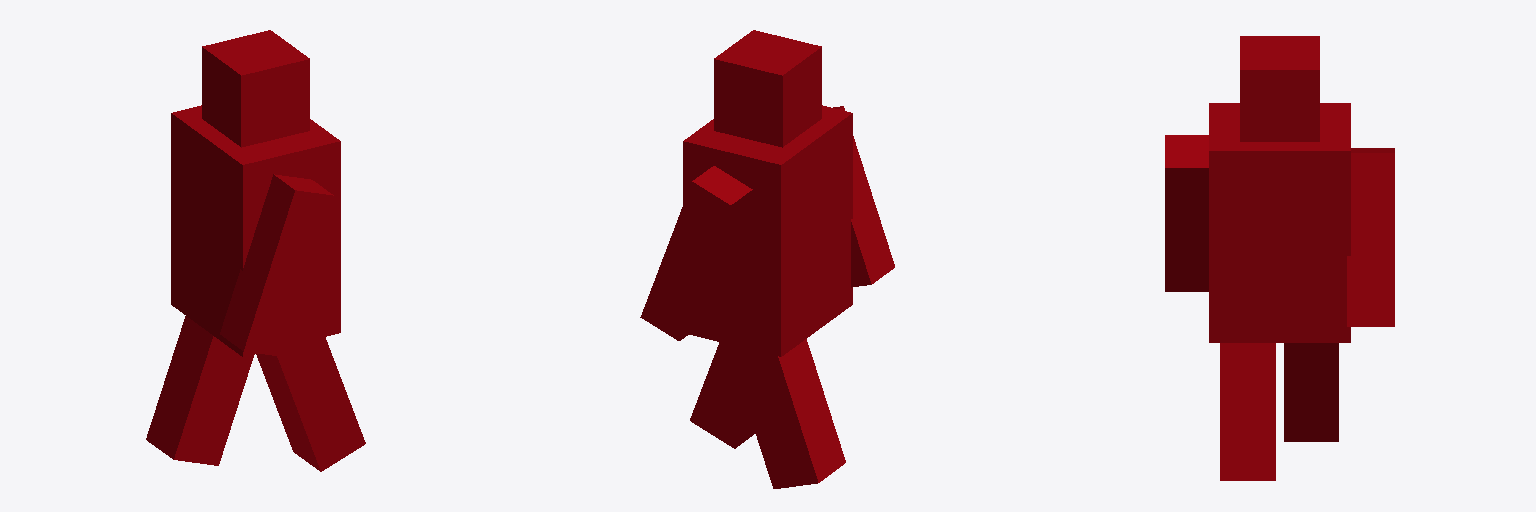
The model's file is enemy_red_walk2.obj.
3 views of the same model, side by side, from view 1: azimuth 30°, elevation 25°; view 2: azimuth 150°, elevation 25°; view 3: azimuth 270°, elevation 25° (orthographic).
Parts seen in each view (by area): view 1: body_Cube, arm_left_Cube.002, head_Cube.005, leg.001_Cube.001, leg_Cube.004; view 2: body_Cube, leg.001_Cube.001, head_Cube.005, arm_right_Cube.003, leg_Cube.004, arm_left_Cube.002; view 3: body_Cube, head_Cube.005, arm_right_Cube.003, leg_Cube.004, arm_left_Cube.002, leg.001_Cube.001.
Boxes of the visible parts, <box> form: body_Cube: <box>171,105,340,356</box>; arm_left_Cube.002: <box>220,174,333,356</box>; head_Cube.005: <box>202,30,309,147</box>; leg.001_Cube.001: <box>146,316,254,465</box>; leg_Cube.004: <box>256,337,365,471</box>; body_Cube: <box>683,105,852,356</box>; leg.001_Cube.001: <box>727,339,845,488</box>; head_Cube.005: <box>714,30,821,147</box>; arm_right_Cube.003: <box>640,166,752,340</box>; leg_Cube.004: <box>690,342,755,448</box>; arm_left_Cube.002: <box>833,106,894,287</box>; body_Cube: <box>1209,103,1350,342</box>; head_Cube.005: <box>1240,36,1319,141</box>; arm_right_Cube.003: <box>1347,148,1394,326</box>; leg_Cube.004: <box>1220,343,1275,480</box>; arm_left_Cube.002: <box>1165,135,1208,291</box>; leg.001_Cube.001: <box>1284,343,1338,441</box>.
Size of the model in its own units: 2.34 by 5.65 by 2.9.